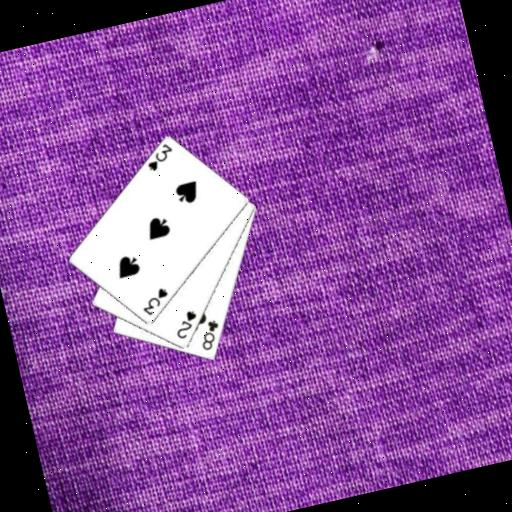2S: (169, 307, 202, 343)
3S: (136, 284, 174, 319), (140, 139, 178, 174)
8C: (194, 316, 226, 353)
